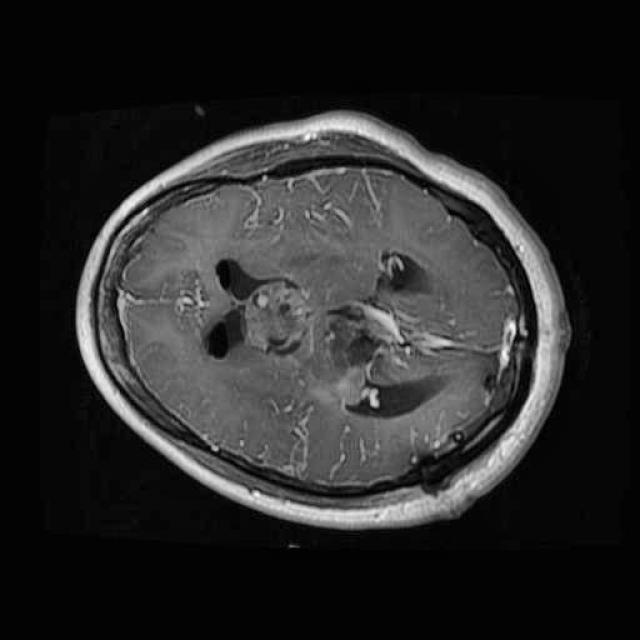Non-Tumor: (230, 269, 429, 416)
